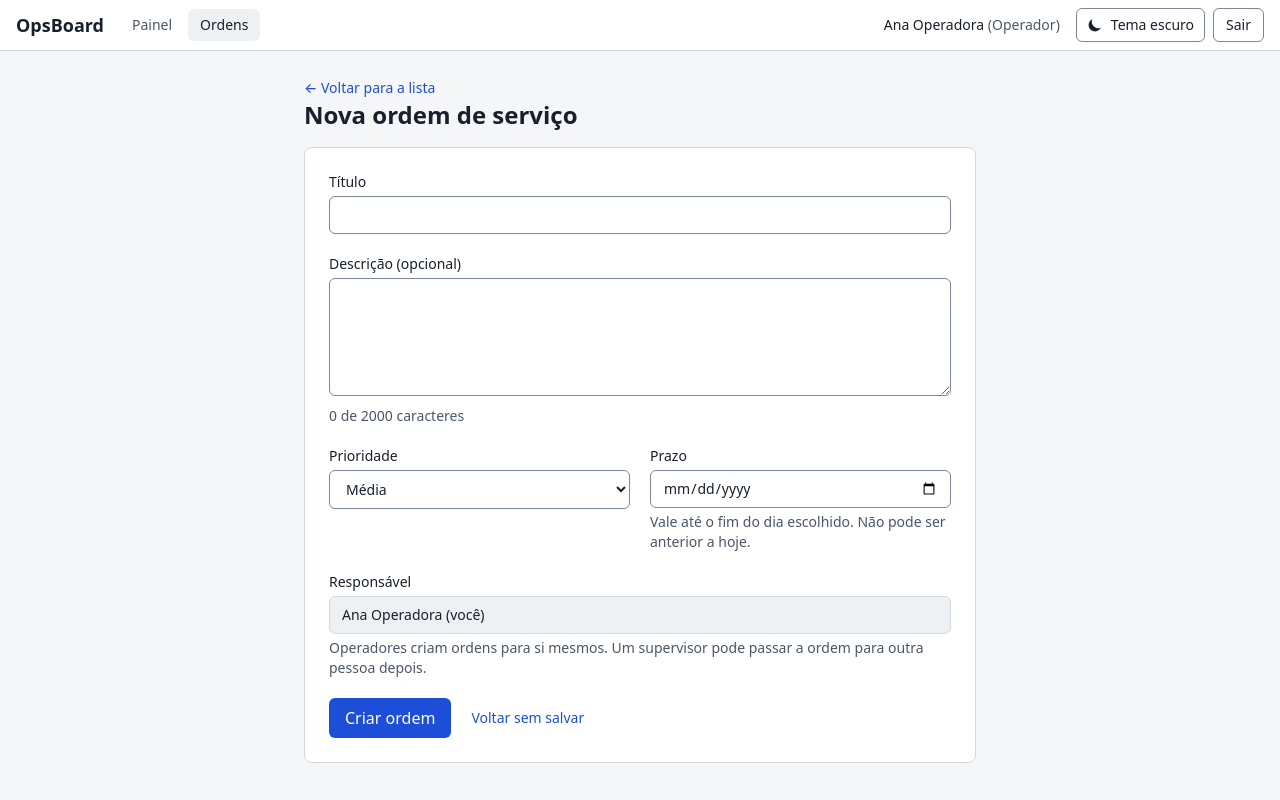
Nova ordem (/orders/new) › operador: responsável fixo (ele mesmo) e criação leva ao detalhe com aviso
Expected: the text "Ana Operadora (você)" is shown, [329,596,951,634]
In the field labelled "Título": (640, 215) [329,196,951,234], type "Trocar filtro do ar"
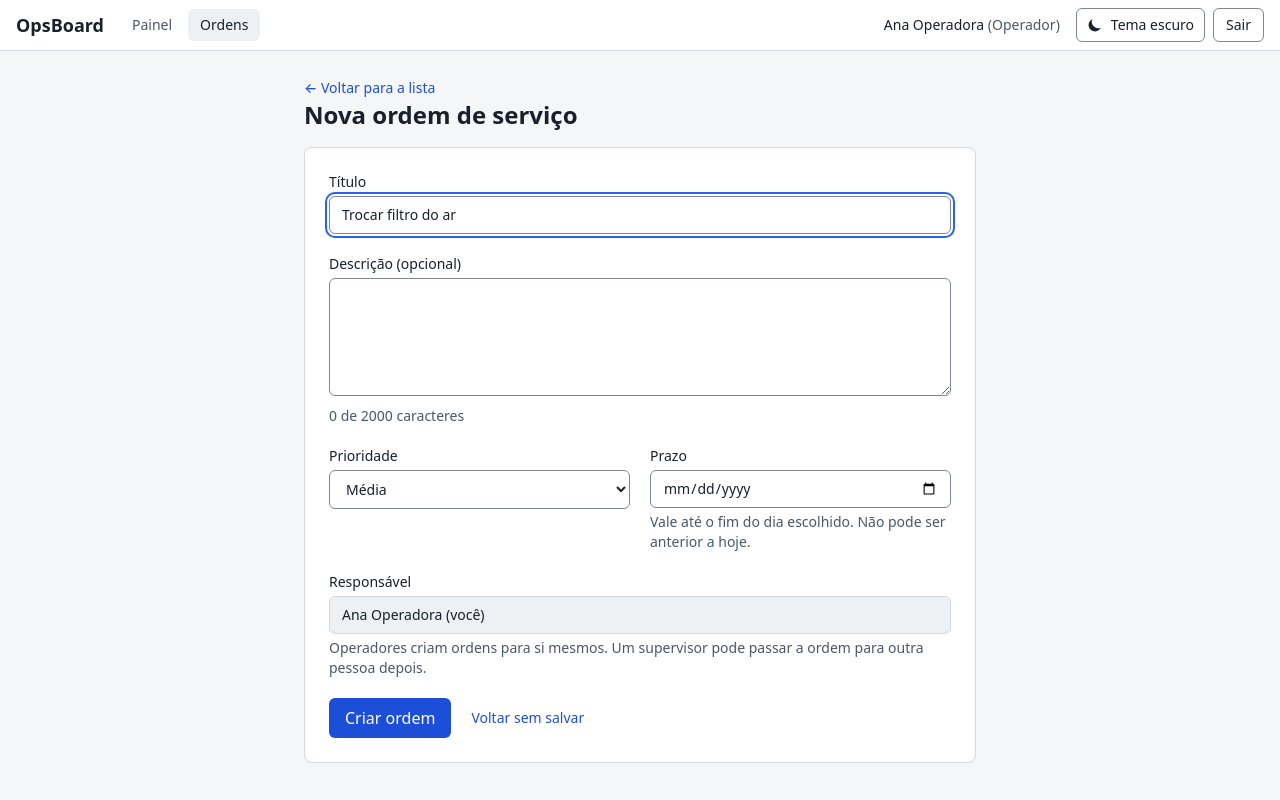
In the date field labelled "Prazo": (800, 489) [650,470,951,508], type "2026-11-12"
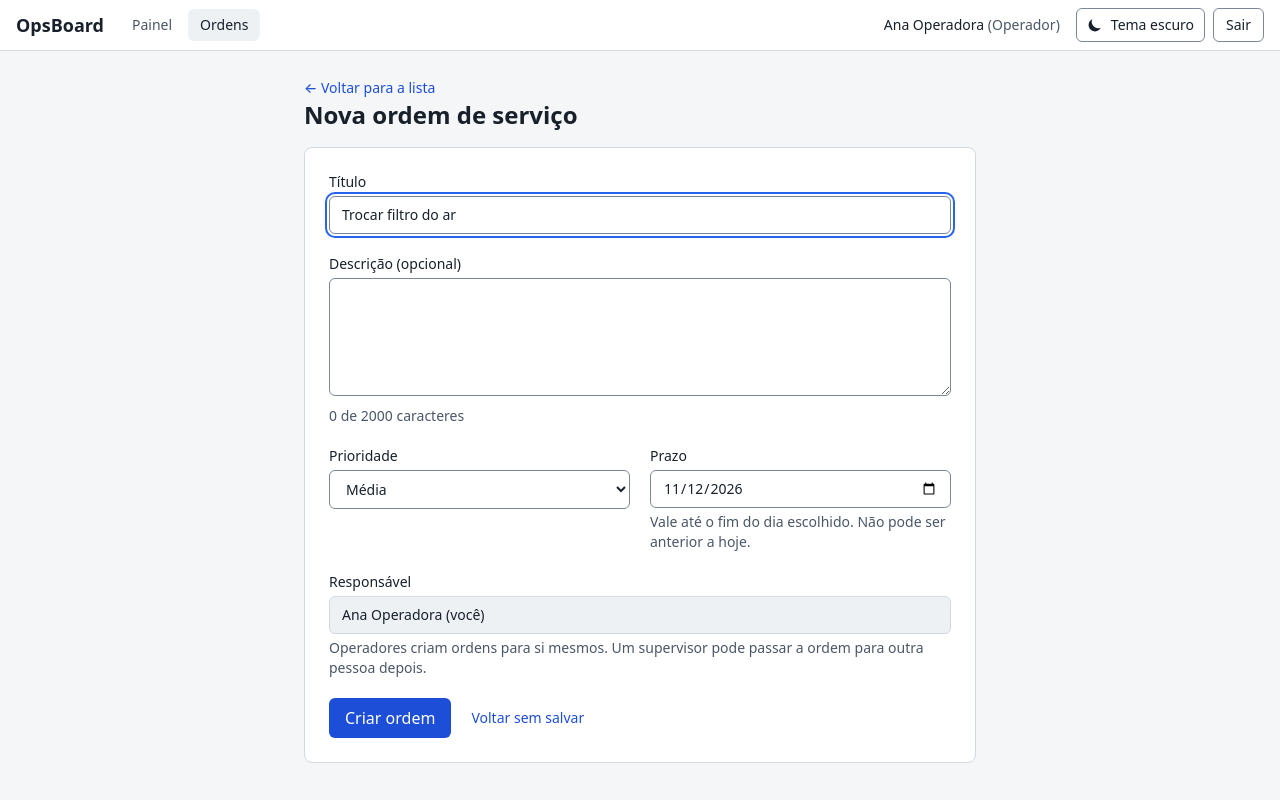
Select "Alta" in the dropdown labelled "Prioridade": (480, 490) [329,470,630,509]
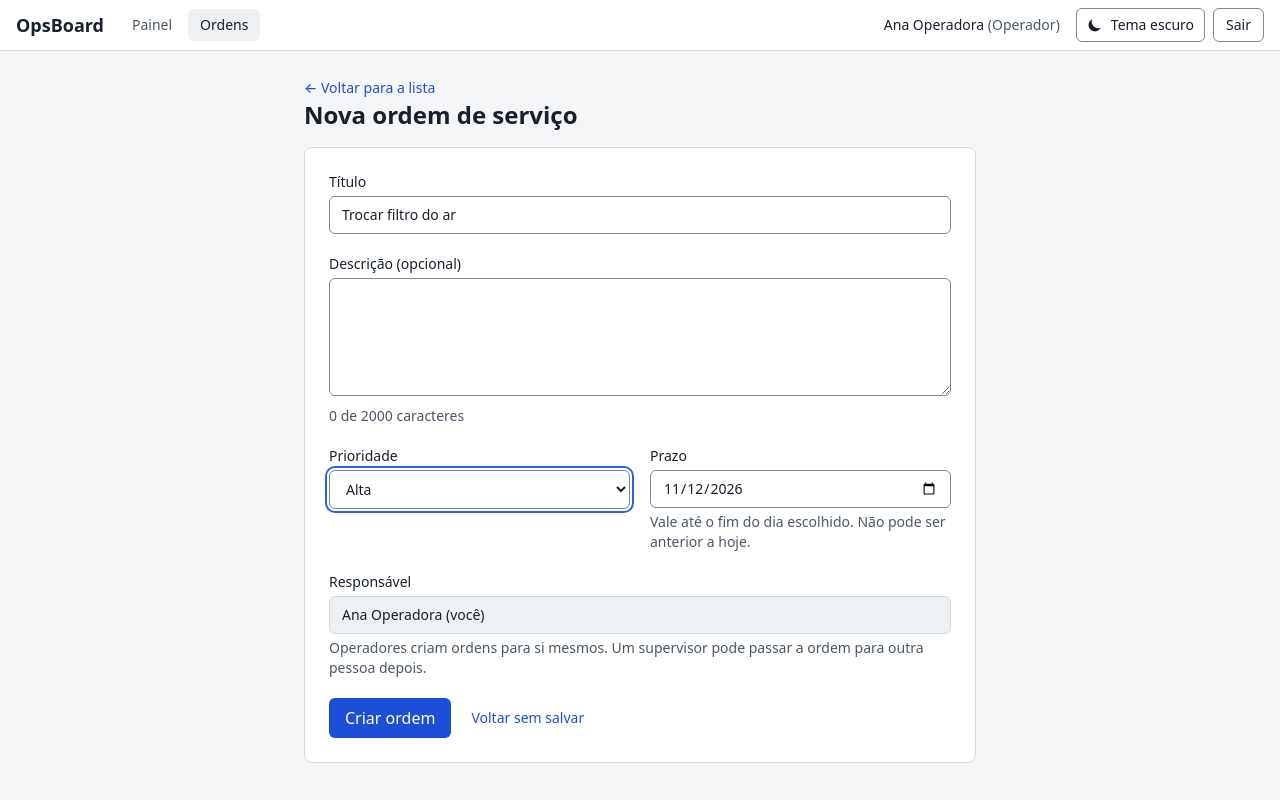
Click the button "Criar ordem": (390, 718) [329,698,451,738]
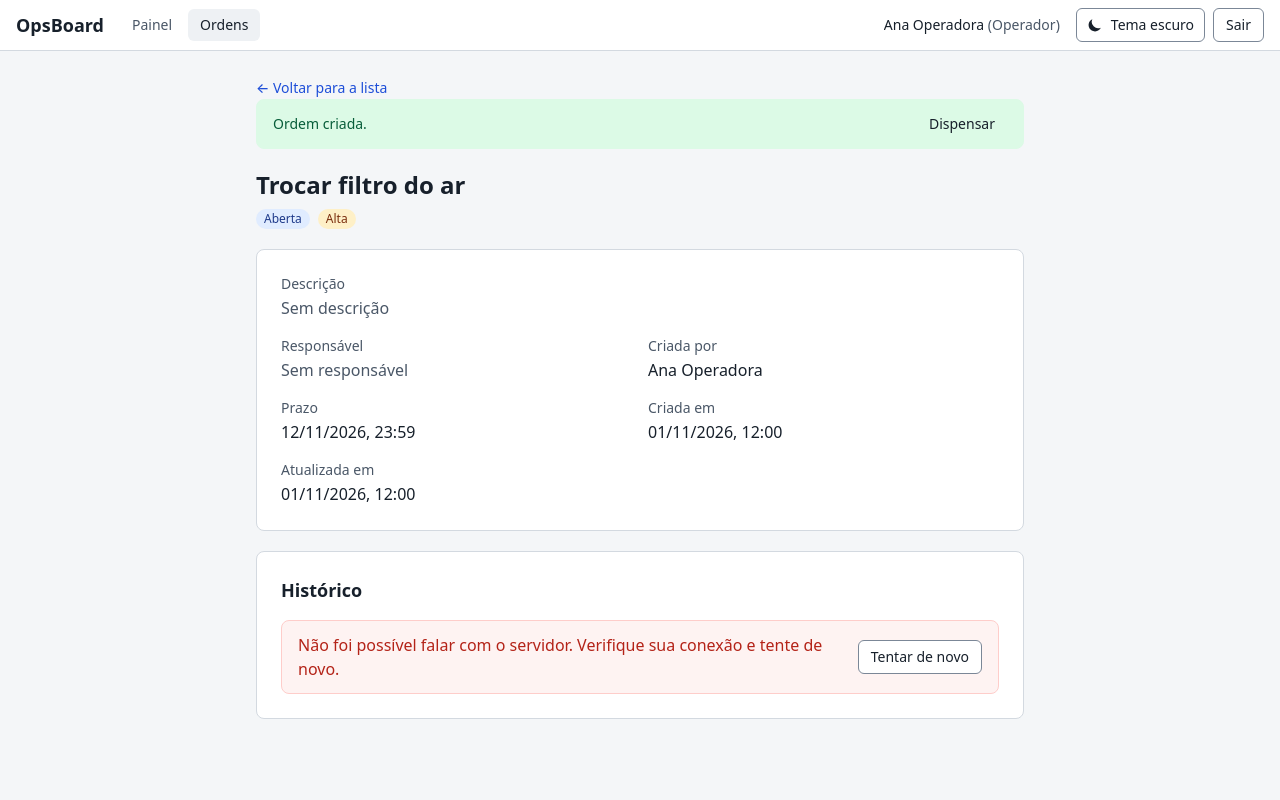
Expected: the text "Ordem criada." is shown, [273,114,367,134]
Expected: the heading "Trocar filtro do ar" is shown, [256,168,466,201]
